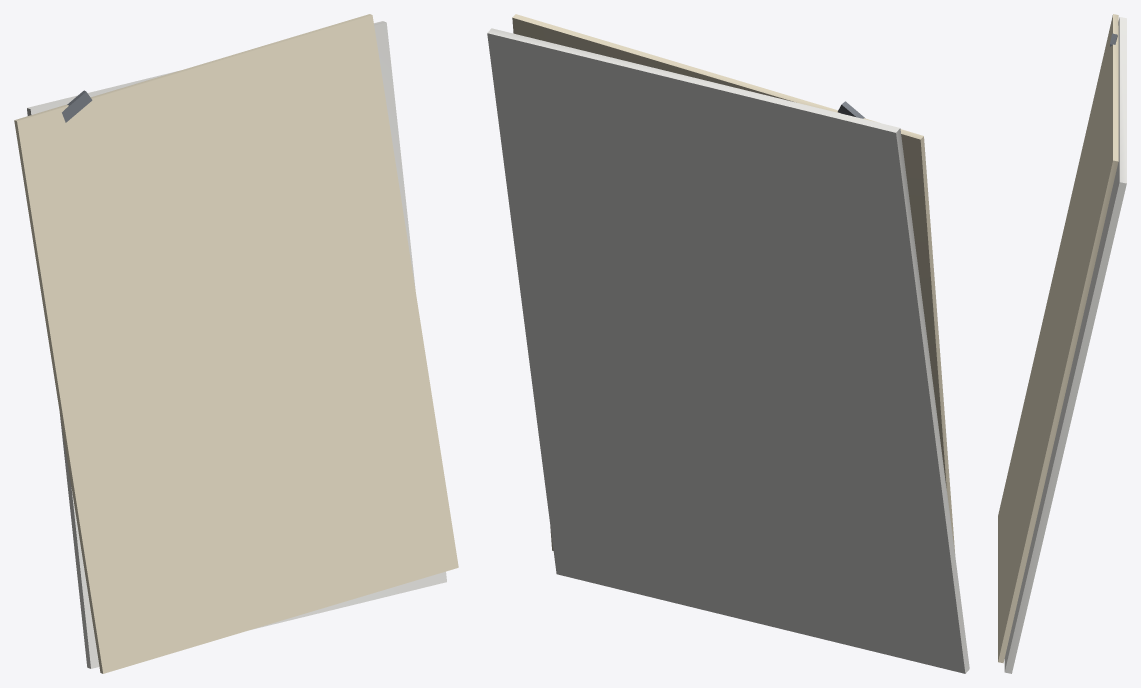
Rendered from held_document_01.glb.
The picture shows the model from 3 angles, left to right: view 1: azimuth 30°, elevation 25°; view 2: azimuth 150°, elevation 25°; view 3: azimuth 270°, elevation 25°; orthographic projection. The views are drawn at different scales.
Visible parts, largest first — view 1: held_document_01_mesh; view 2: held_document_01_mesh; view 3: held_document_01_mesh.
Boxes of the visible parts, <box> form: held_document_01_mesh: <box>14,14,458,673</box>; held_document_01_mesh: <box>487,14,969,673</box>; held_document_01_mesh: <box>998,14,1126,673</box>.
Bounding box in the file's own units: 0.225 × 0.3017 × 0.0692.
Materials: 1 (1 with a texture image).
